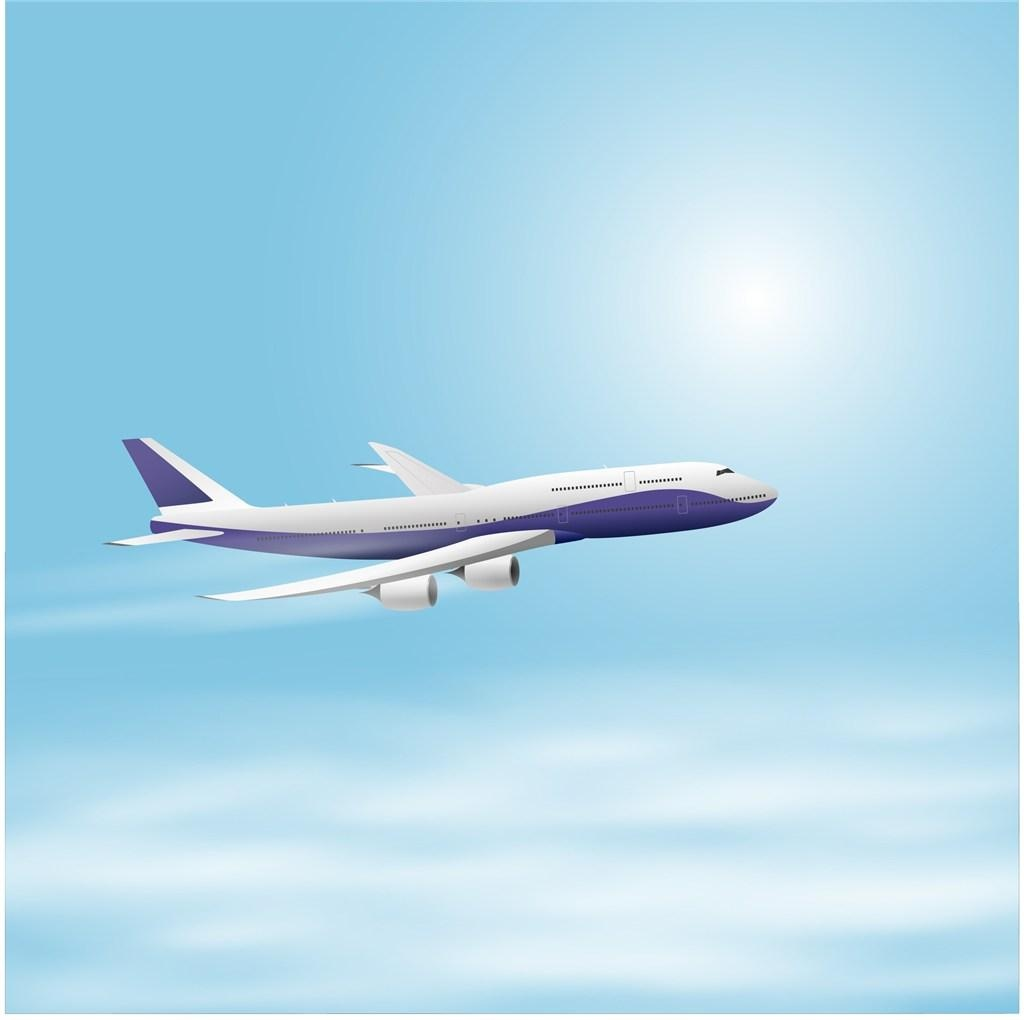airplane: (80, 424, 802, 618)
